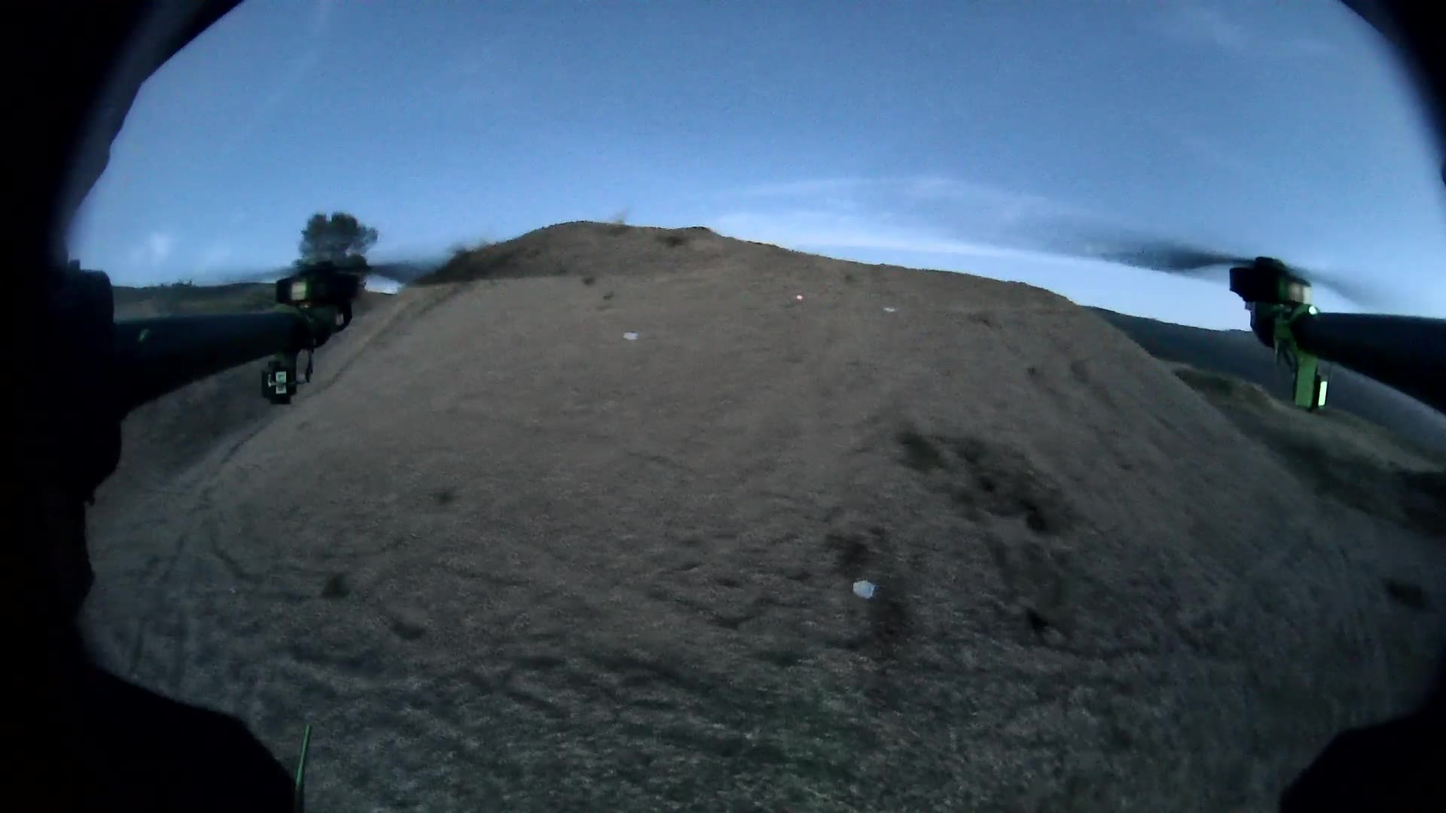Target: (852, 579, 879, 599)
